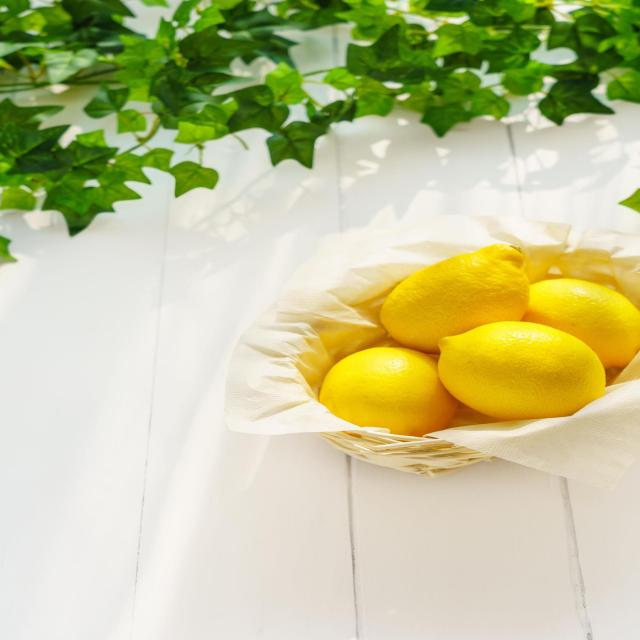lemon: (432, 318, 610, 428), (373, 242, 537, 358)
